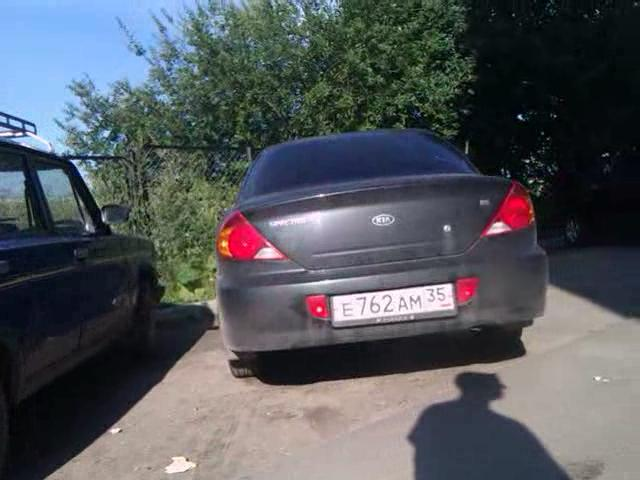car license plate: (330, 278, 457, 329)
